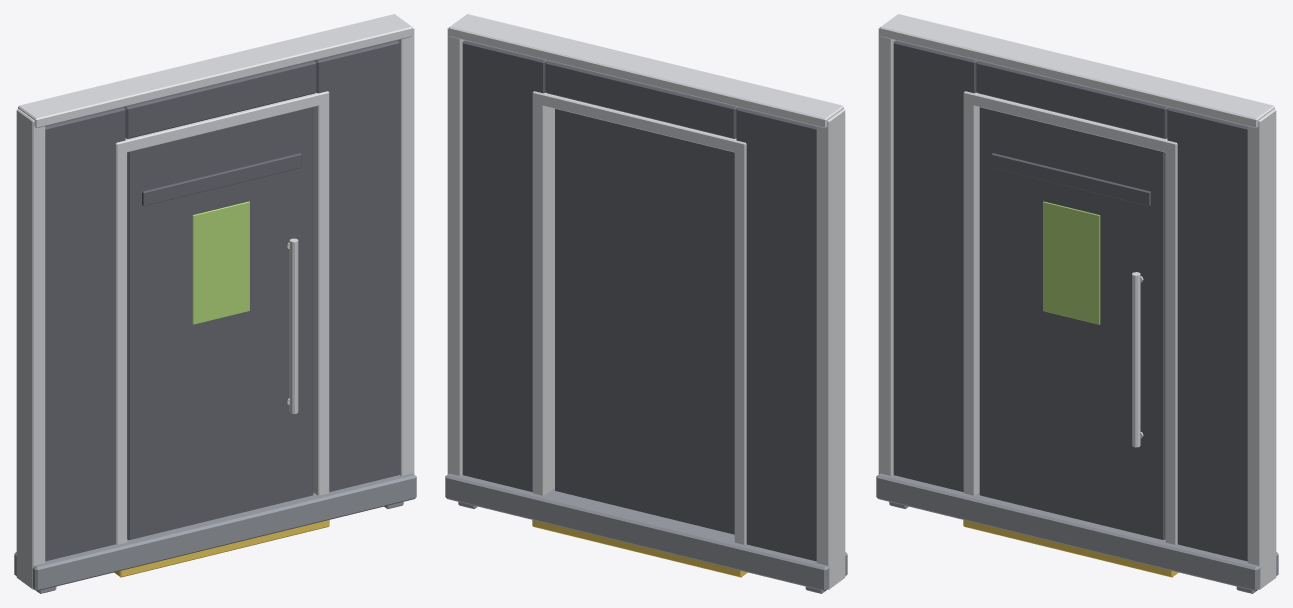
Rendered from laser-tag-arena-and-activity-centre-arena-doorway-modu-0bd556cc__34474.glb.
3 views of the same model, side by side, from view 1: azimuth 30°, elevation 25°; view 2: azimuth 150°, elevation 25°; view 3: azimuth 330°, elevation 25° (orthographic).
Visible parts, largest first — view 1: arena-doorway-module, door, door/lime, door/metal; view 2: arena-doorway-module, door; view 3: arena-doorway-module, door, door/lime, door/metal.
Part boxes in pixels (bbox=[...]): arena-doorway-module: bbox=[14, 14, 416, 593]; door: bbox=[127, 107, 313, 539]; door/lime: bbox=[192, 201, 249, 324]; door/metal: bbox=[287, 238, 298, 413]; arena-doorway-module: bbox=[445, 14, 847, 593]; door: bbox=[555, 109, 734, 534]; arena-doorway-module: bbox=[876, 14, 1278, 593]; door: bbox=[979, 107, 1165, 539]; door/lime: bbox=[1043, 201, 1100, 324]; door/metal: bbox=[1132, 272, 1143, 447].
Size of the model in its own units: 2 by 2.4 by 0.214.
